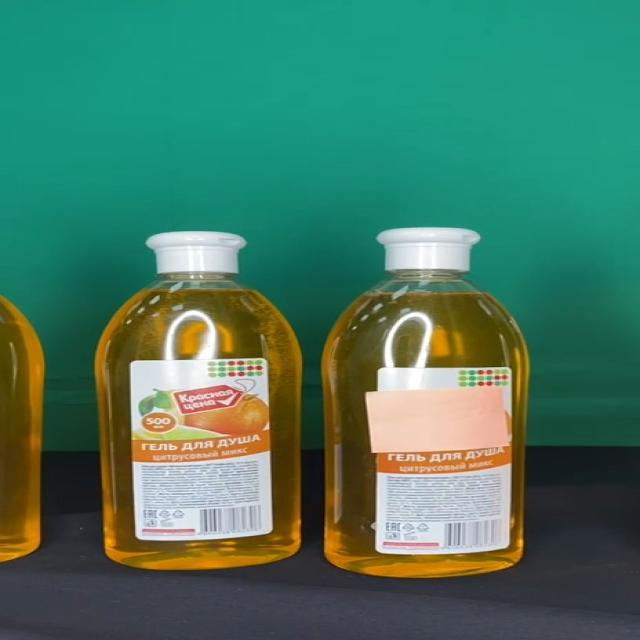Bottle: (323, 227, 528, 578), (98, 230, 302, 570)
Cap: (378, 228, 482, 271), (146, 231, 249, 273)
